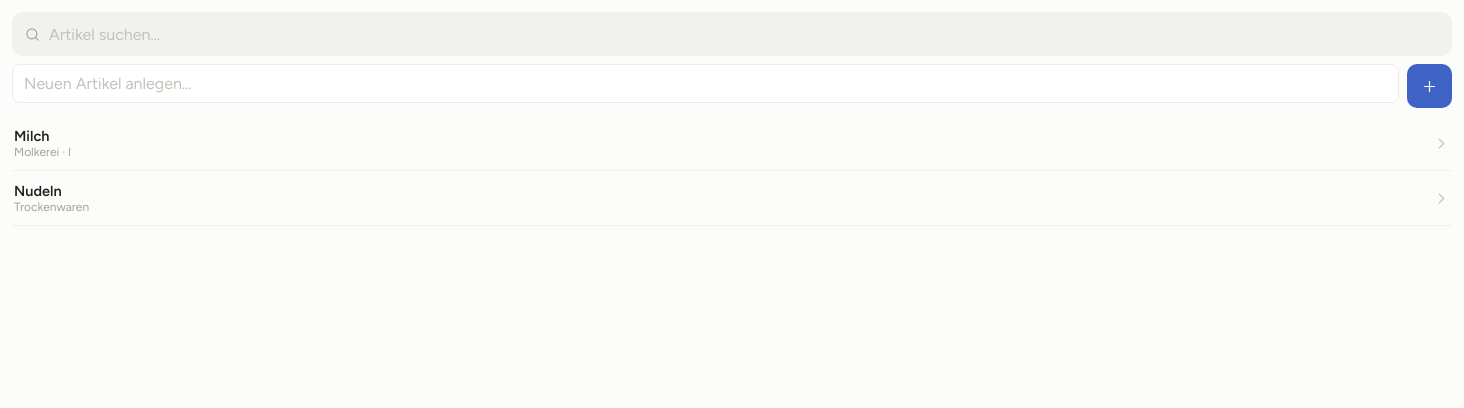
Scenario: CatalogBrowser › opens the edit panel when a row is tapped
Click the button "Milch Molkerei · l": (32, 136) [12,116,1452,171]
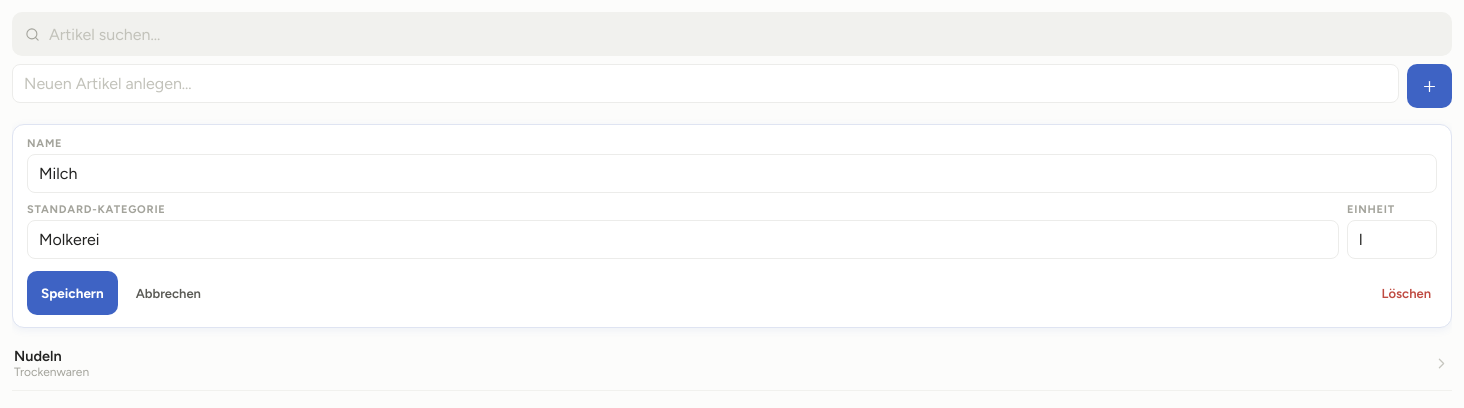
Check: the field labelled "Name" holds "Milch", box [27,154,1437,193]
Check: the button "Speichern" is shown, box [27,271,118,315]
